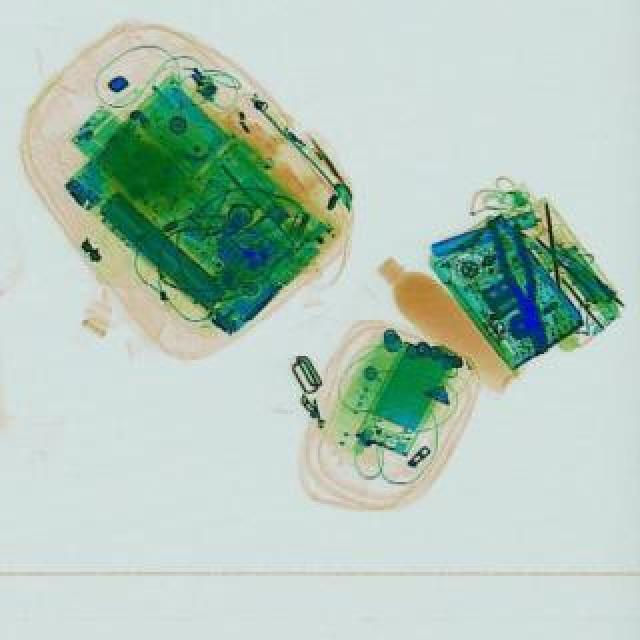wrench: (486, 216, 562, 362)
